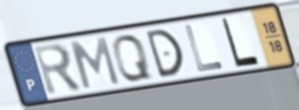D: (143, 27, 187, 81)
L: (220, 16, 262, 69), (182, 24, 226, 74)
M: (68, 35, 122, 91)
Q: (111, 33, 155, 83)
R: (31, 41, 85, 98)
